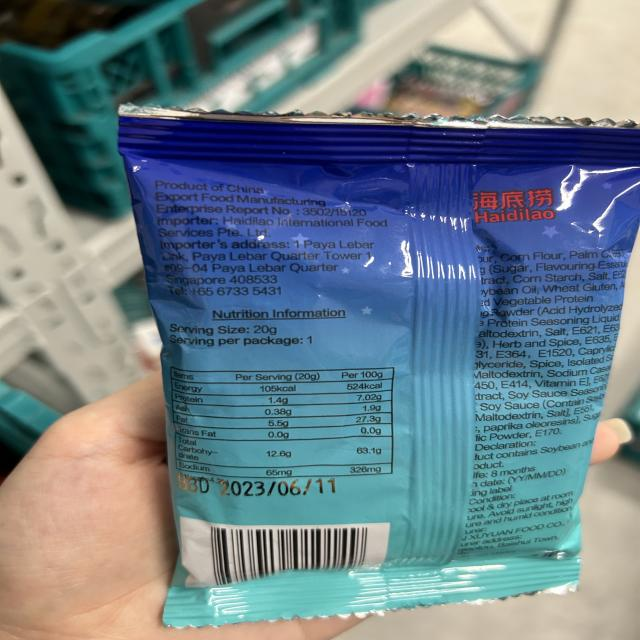object_name: (134, 113, 610, 593)
